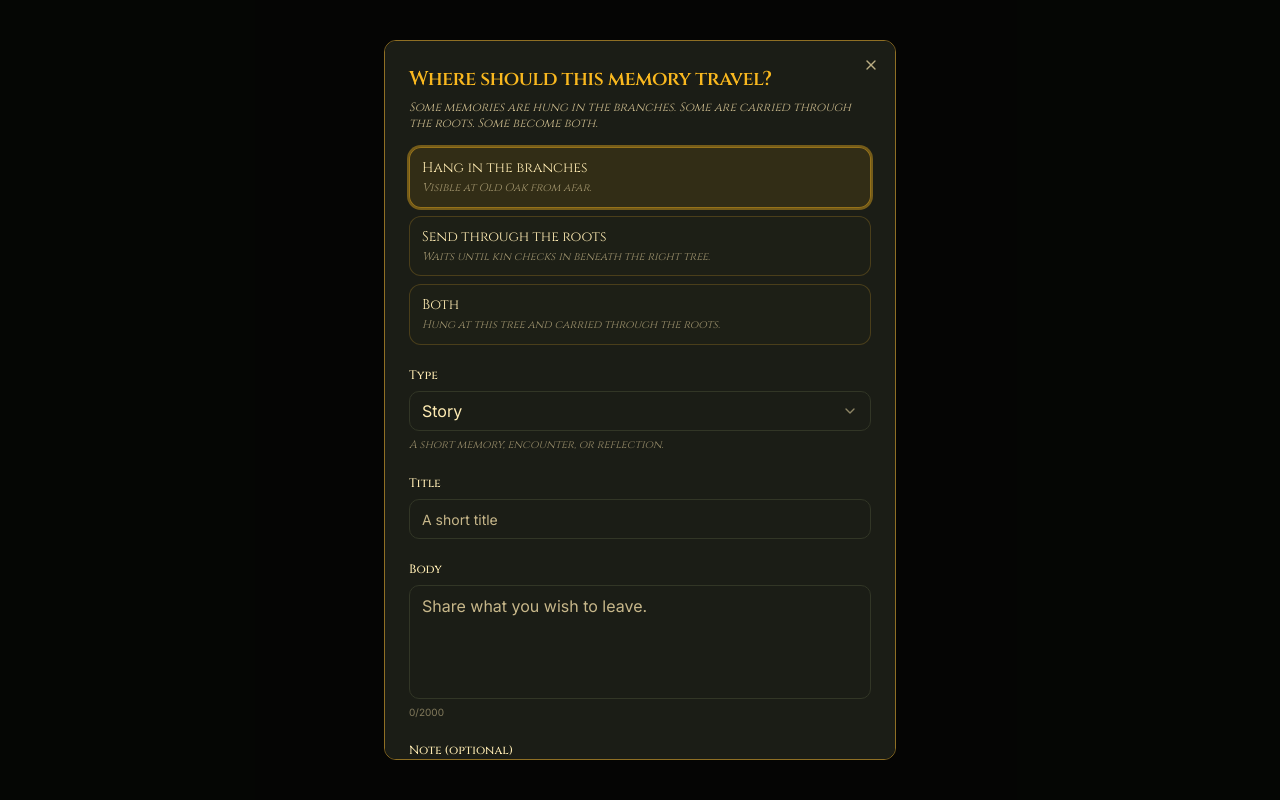
MemorySeedComposer submit flow › 6. dialog close + reopen after partial — no stale retry state, fresh offering insert on next submit
Later steps or results of the test are not shown.
Click the text "Both" at x=441, y=304, box [422,295,459,314]
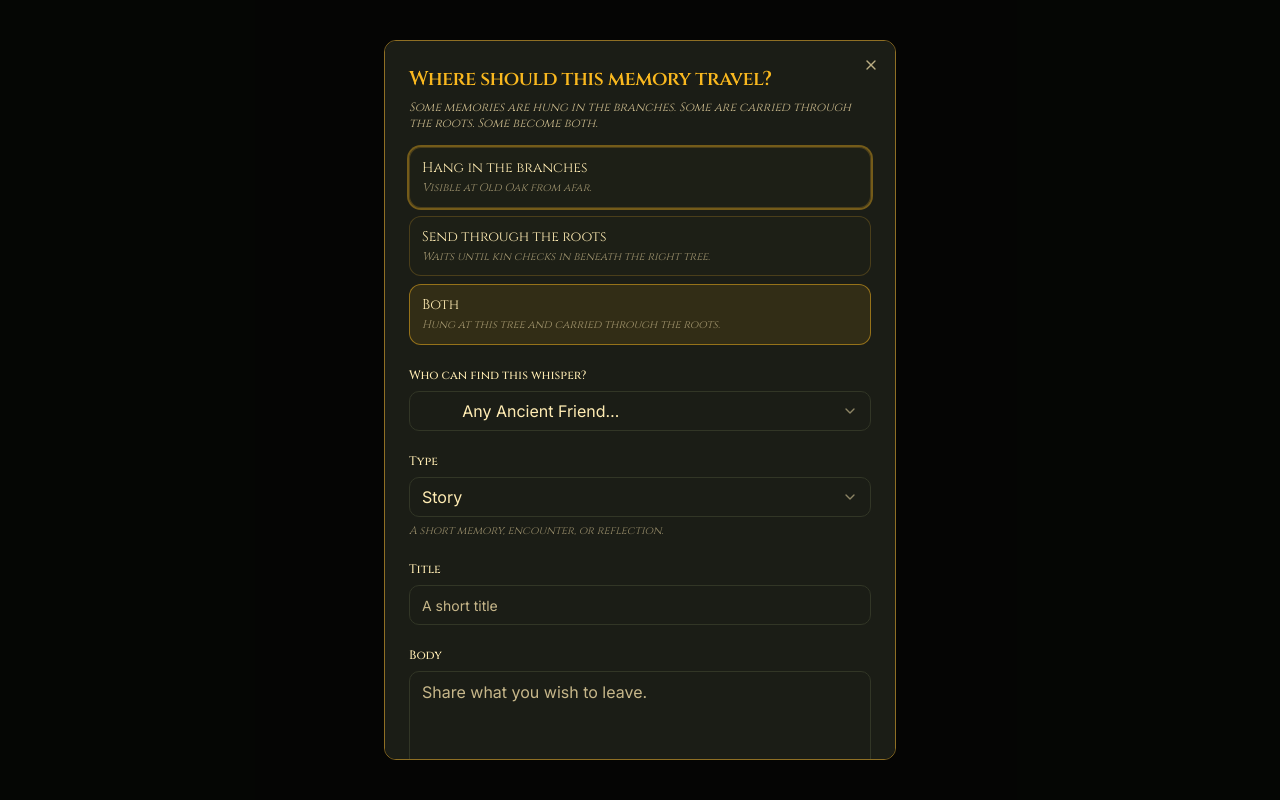
Type "Hello" into the field labelled "Title" at x=640, y=605, box [409,585,871,625]
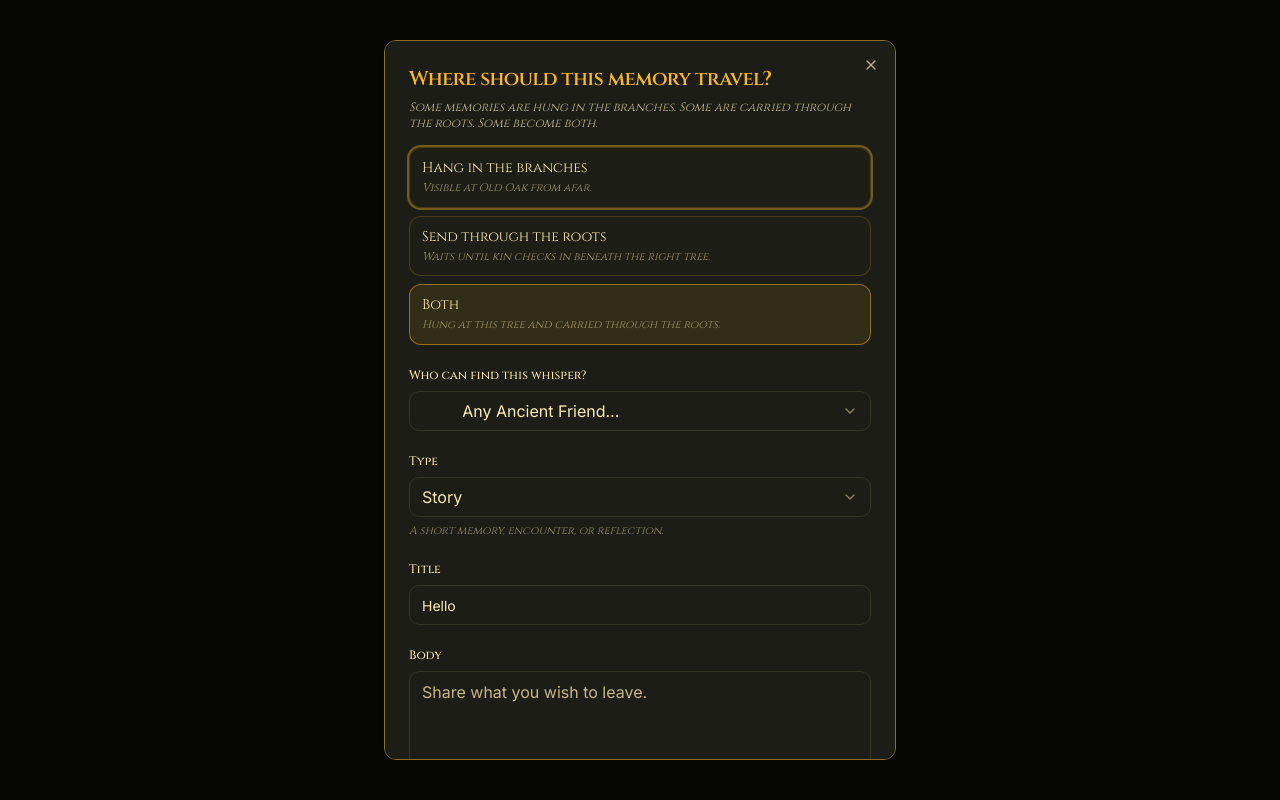
Type "Body text" into the text box labelled "Body" at x=640, y=728, box [409,671,871,785]
(page scrolled)
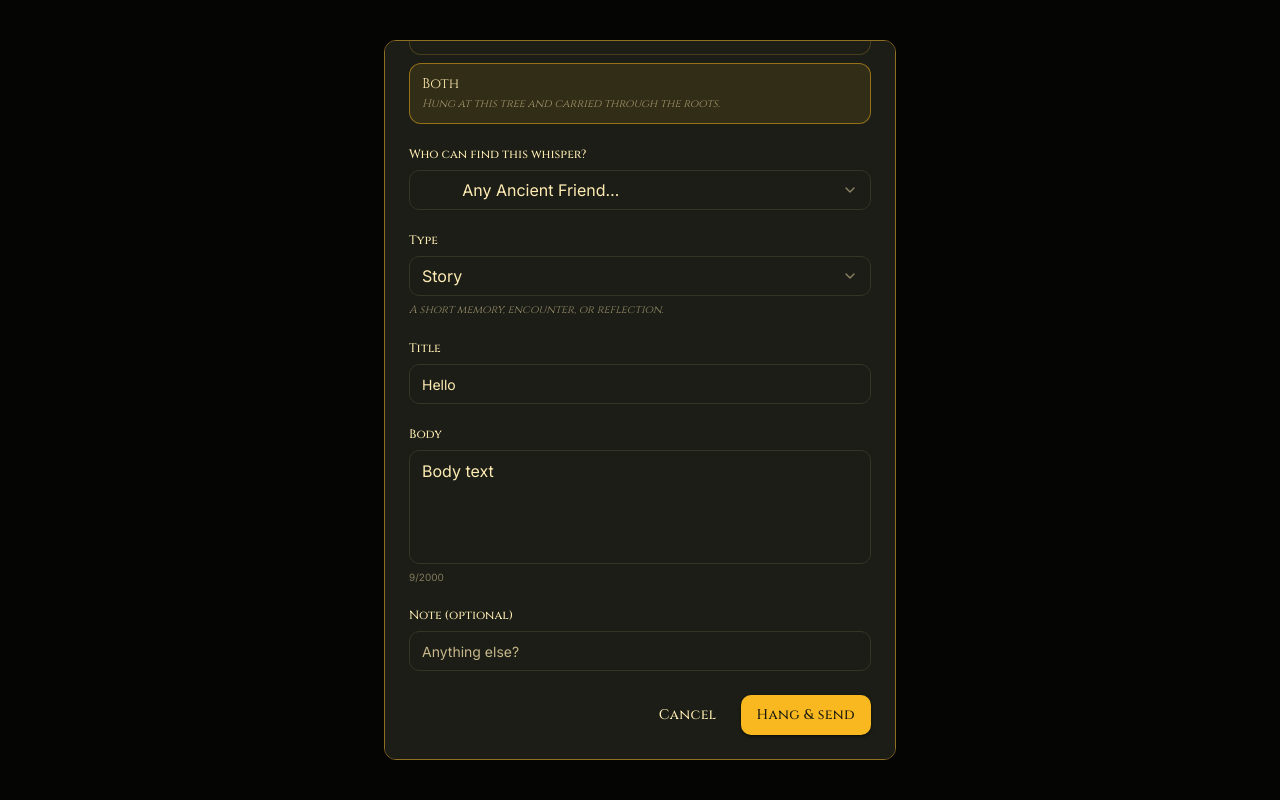
Click the button "Hang & send" at x=806, y=715, box [740,695,871,735]
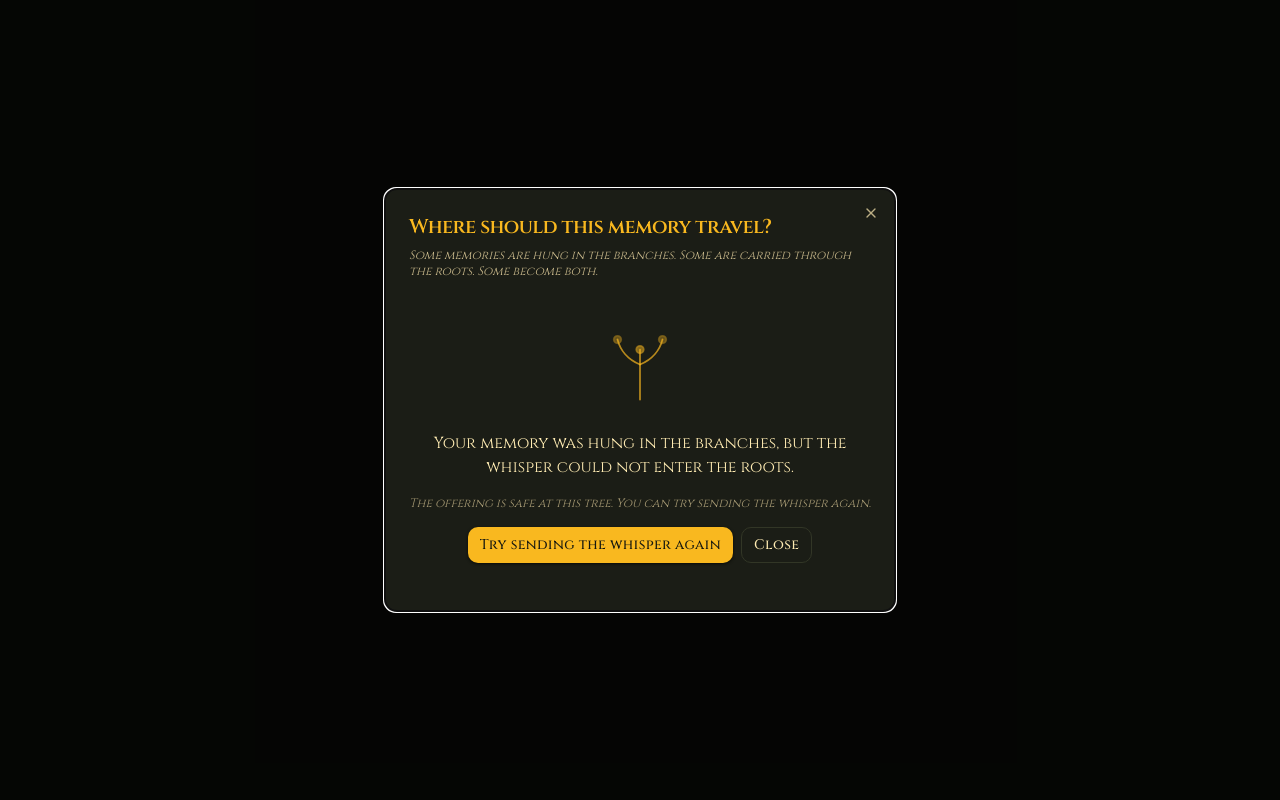
Expected: the text "whisper could not enter the roots" is shown, [433,432,847,478]
